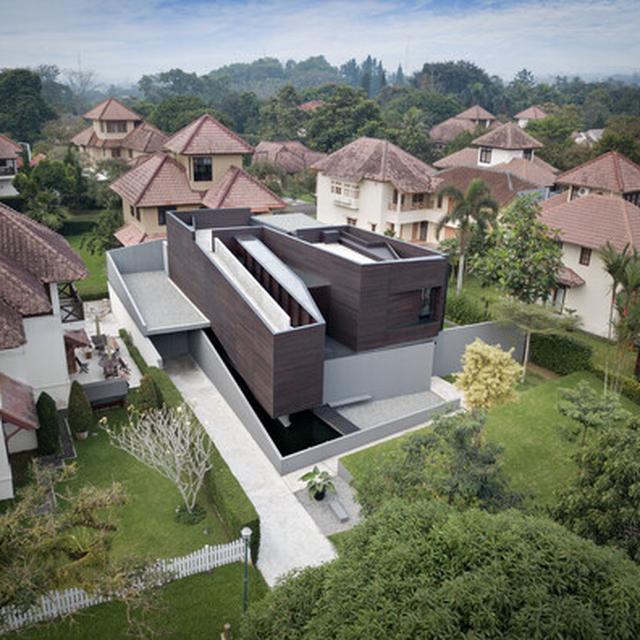building: (99, 182, 472, 456), (493, 122, 640, 364), (0, 192, 102, 510), (96, 106, 290, 233), (317, 132, 453, 252), (72, 90, 170, 181)
